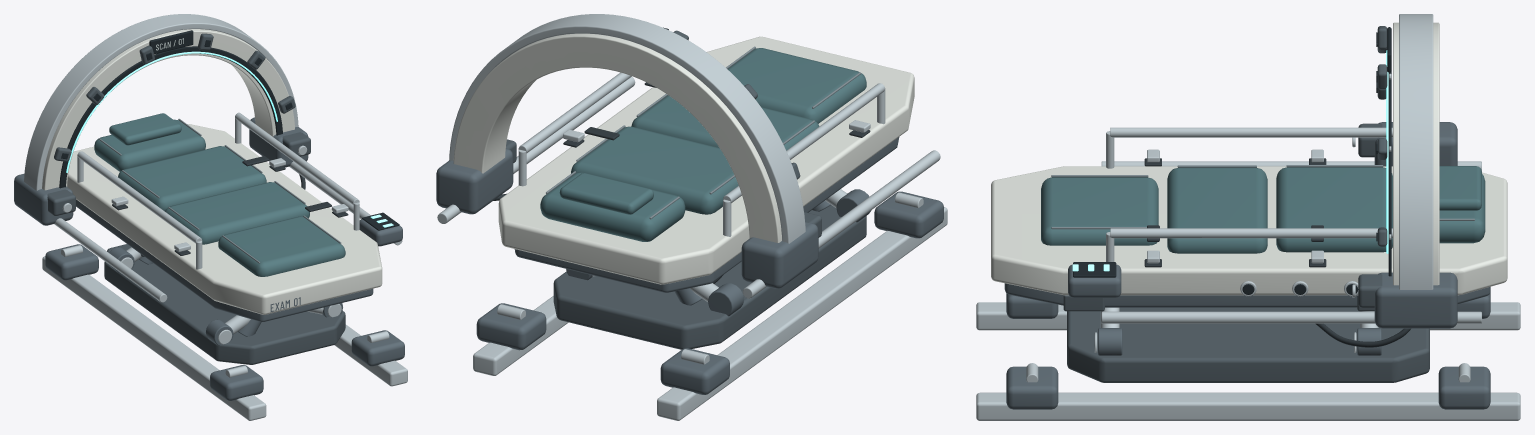
File: examination-standard.glb
3 renders of one model, left to right at view 1: azimuth 30°, elevation 25°; view 2: azimuth 150°, elevation 25°; view 3: azimuth 270°, elevation 25°, orthographic. The views are drawn at different scales.
Visible parts, largest first — view 1: examination__Ceramic medical shell, examination__Satin aluminium, examination__Medical upholstery, examination__Coated pressure frame, examination__Graphite enamel, examination__Recess and gasket, examination__Recessed titanium panels, examination__Scanner sensing indicator, examination__Restraint webbing; view 2: examination__Ceramic medical shell, examination__Satin aluminium, examination__Medical upholstery, examination__Graphite enamel, examination__Coated pressure frame, examination__Recessed titanium panels, examination__Restraint webbing; view 3: examination__Satin aluminium, examination__Ceramic medical shell, examination__Medical upholstery, examination__Coated pressure frame, examination__Graphite enamel, examination__Recess and gasket, examination__Restraint webbing, examination__Recessed titanium panels, examination__Scanner sensing indicator.
Boxes of the visible parts, bbox=[...] form: examination__Ceramic medical shell: bbox=[42, 29, 382, 314]; examination__Satin aluminium: bbox=[24, 14, 407, 420]; examination__Medical upholstery: bbox=[94, 113, 345, 276]; examination__Coated pressure frame: bbox=[47, 33, 345, 364]; examination__Graphite enamel: bbox=[14, 117, 404, 400]; examination__Recess and gasket: bbox=[59, 30, 399, 230]; examination__Recessed titanium panels: bbox=[98, 118, 341, 263]; examination__Scanner sensing indicator: bbox=[66, 51, 277, 172]; examination__Restraint webbing: bbox=[112, 156, 348, 256]; examination__Ceramic medical shell: bbox=[453, 33, 914, 284]; examination__Satin aluminium: bbox=[437, 14, 947, 420]; examination__Medical upholstery: bbox=[540, 48, 866, 241]; examination__Graphite enamel: bbox=[436, 137, 943, 394]; examination__Coated pressure frame: bbox=[506, 30, 866, 349]; examination__Recessed titanium panels: bbox=[546, 46, 861, 219]; examination__Restraint webbing: bbox=[493, 82, 870, 283]; examination__Satin aluminium: bbox=[976, 14, 1520, 420]; examination__Ceramic medical shell: bbox=[991, 22, 1507, 295]; examination__Medical upholstery: bbox=[1041, 166, 1485, 253]; examination__Coated pressure frame: bbox=[1063, 26, 1429, 382]; examination__Graphite enamel: bbox=[1004, 122, 1490, 409]; examination__Recess and gasket: bbox=[1073, 27, 1391, 294]; examination__Restraint webbing: bbox=[1144, 158, 1410, 347]; examination__Recessed titanium panels: bbox=[1051, 165, 1474, 229]; examination__Scanner sensing indicator: bbox=[1386, 50, 1388, 253].
Bounding box in the file's own units: 2.34 × 2.16 × 3.15.
